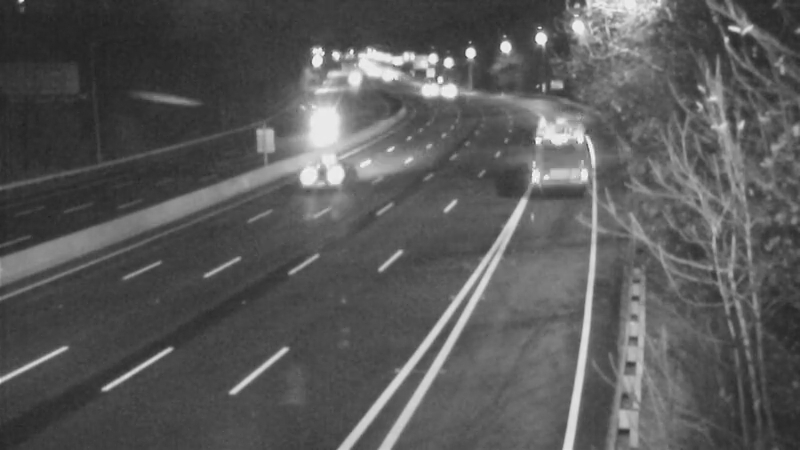vehicle: (291, 137, 371, 217), (399, 65, 449, 115), (418, 65, 468, 115), (533, 112, 583, 162), (296, 106, 346, 156)
